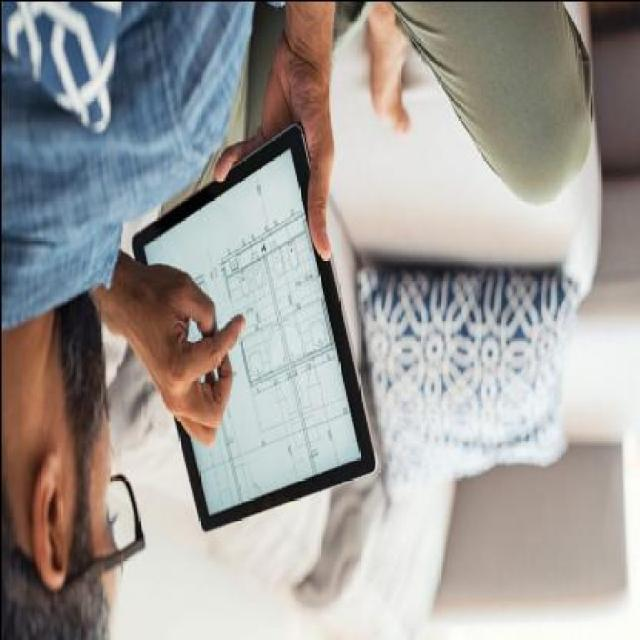earphone: (104, 137, 106, 140)
tablet: (108, 137, 468, 523)
